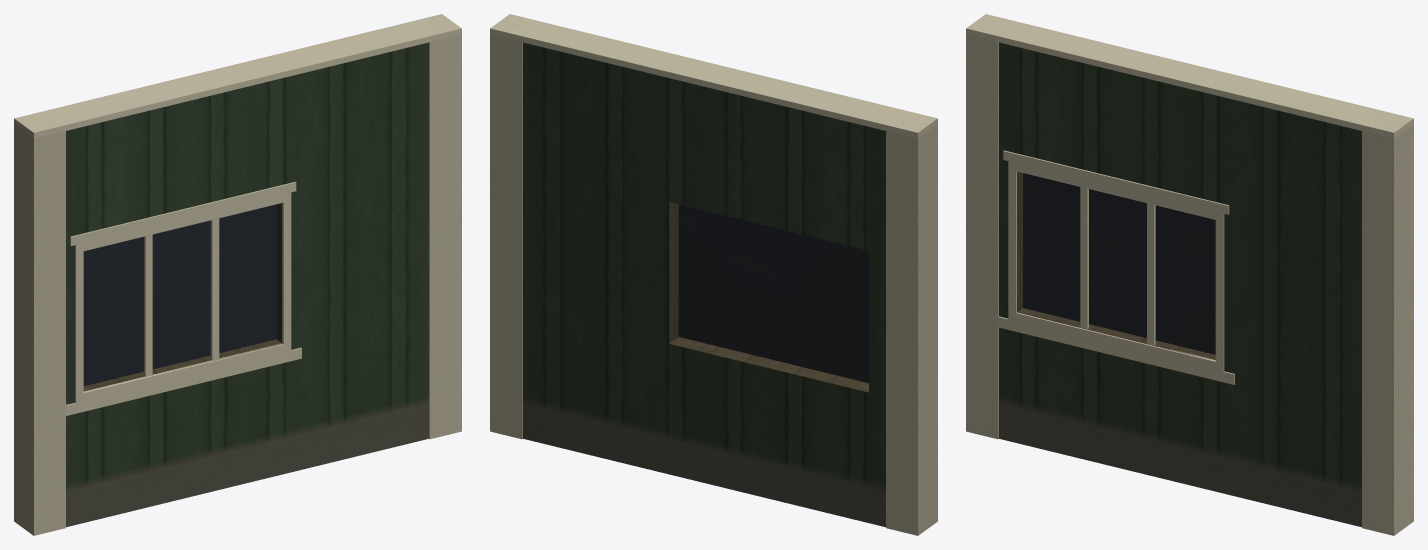
The model's file is house_04_wall_window.glb.
The picture shows the model from 3 angles, left to right: view 1: azimuth 30°, elevation 25°; view 2: azimuth 150°, elevation 25°; view 3: azimuth 330°, elevation 25°; orthographic projection.
Visible parts, largest first — view 1: outdoor_house_04_wall_window; view 2: outdoor_house_04_wall_window; view 3: outdoor_house_04_wall_window.
Part boxes in pixels (left/top/right/bottom): outdoor_house_04_wall_window: left=14, top=14, right=461, bottom=535; outdoor_house_04_wall_window: left=490, top=14, right=937, bottom=535; outdoor_house_04_wall_window: left=966, top=14, right=1413, bottom=535.
Size of the model in its own units: 3 by 2.7 by 0.24.
1 material, 1 textured.
